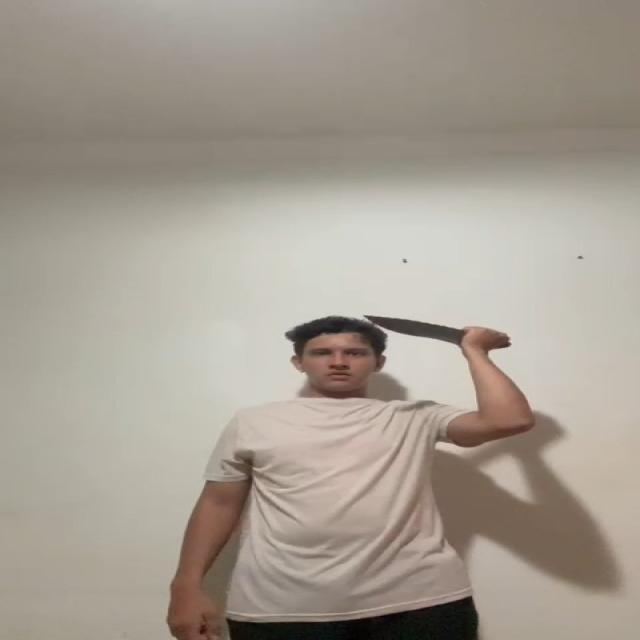knife: (364, 314, 466, 341)
